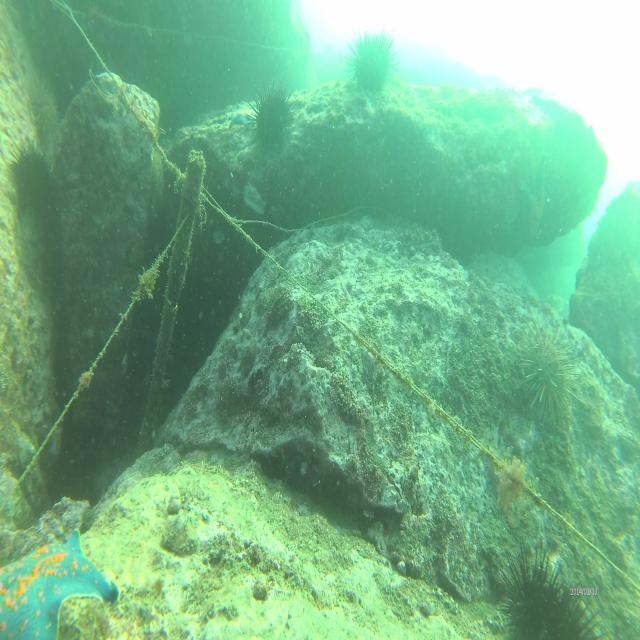echinus: (504, 552, 574, 640), (520, 332, 574, 420), (12, 143, 56, 218), (351, 30, 393, 96), (253, 86, 291, 146)
starfish: (0, 525, 121, 640), (228, 102, 258, 135)
